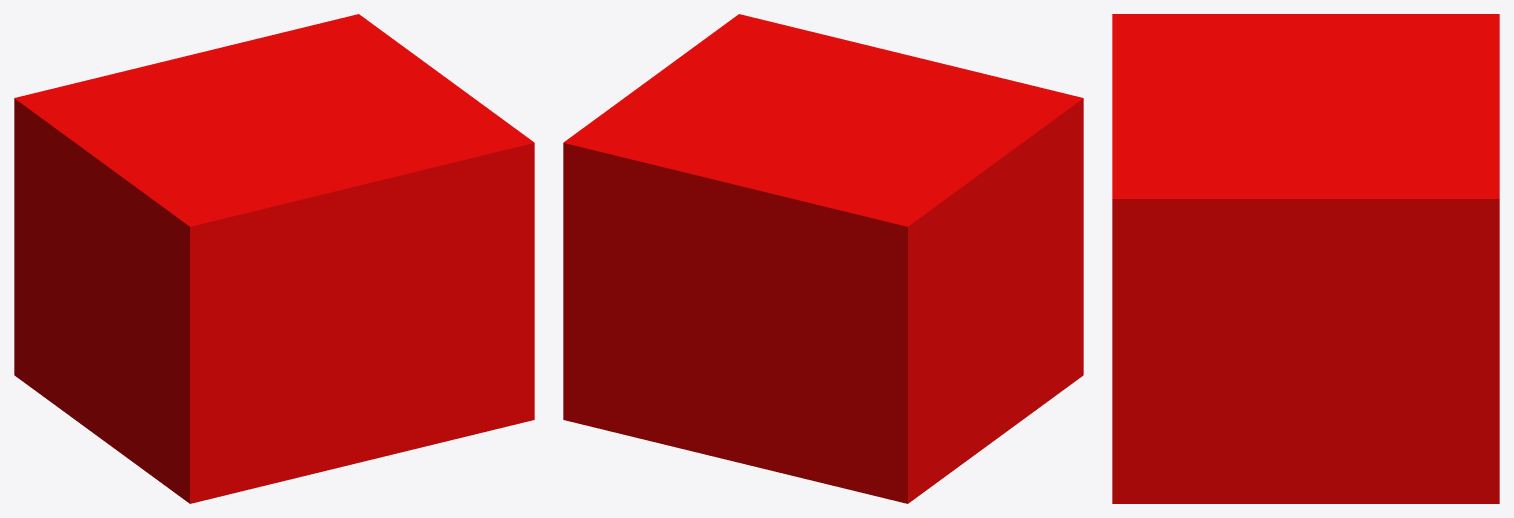
Rendered from thoracic11_col.dae.
The picture shows the model from 3 angles, left to right: view 1: azimuth 30°, elevation 25°; view 2: azimuth 150°, elevation 25°; view 3: azimuth 270°, elevation 25°; orthographic projection. The views are drawn at different scales.
Parts seen in each view (by area): view 1: node0; view 2: node0; view 3: node0.
Boxes of the visible parts, <box> form: node0: <box>14,14,534,503</box>; node0: <box>563,14,1083,503</box>; node0: <box>1112,14,1499,503</box>.
Bounding box in the file's own units: 0.0706 × 0.0542 × 0.0624.
